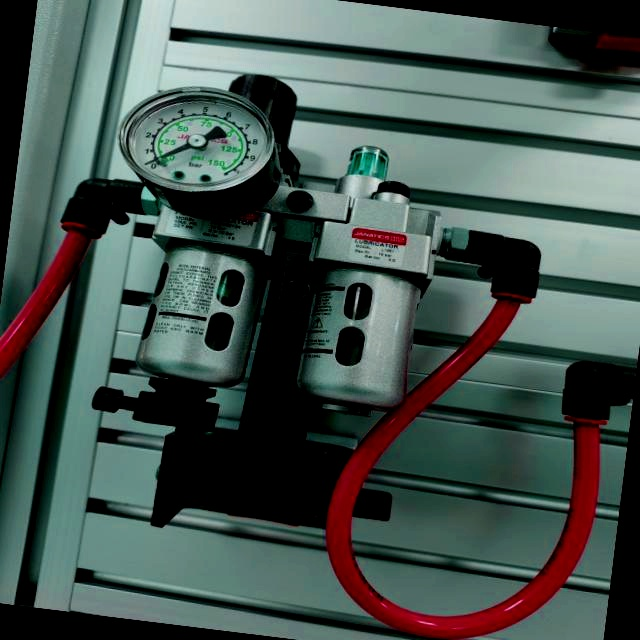FRL unit: (28, 46, 538, 573)
push button: (108, 74, 292, 226)
